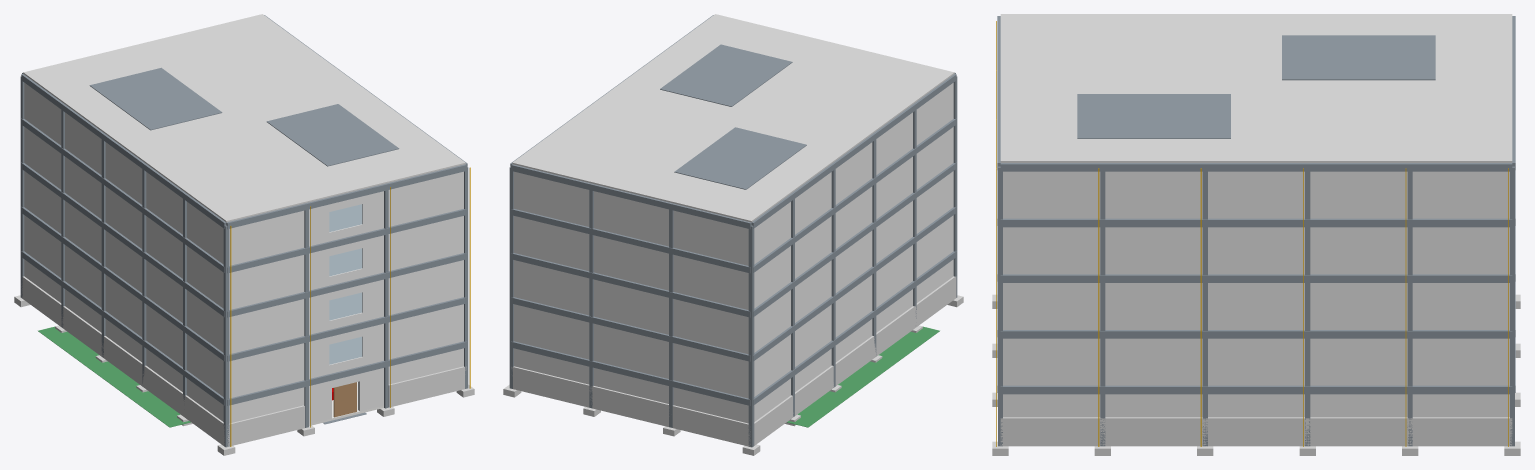
Rendered from generated_building_43.glb.
3 views of the same model, side by side, from view 1: azimuth 30°, elevation 25°; view 2: azimuth 150°, elevation 25°; view 3: azimuth 270°, elevation 25° (orthographic). The views are drawn at different scales.
Parts seen in each view (by area): view 1: architectural, structural, landscape, windows, electrical, doors; view 2: architectural, structural, landscape; view 3: architectural, structural, landscape, electrical.
Part boxes in pixels (x1,y1,x2,y2): architectural: (23,14,465,425); structural: (14,15,474,455); landscape: (21,276,466,446); windows: (329,204,362,364); electrical: (230,167,470,446); doors: (333,382,356,417); architectural: (512,14,954,423); structural: (503,15,963,455); landscape: (511,276,956,446); architectural: (1000,14,1512,417); structural: (992,16,1520,455); landscape: (1000,417,1512,446); electrical: (996,21,1508,446).
Bounding box in the file's own units: 18.9 × 15.75 × 25.8.
